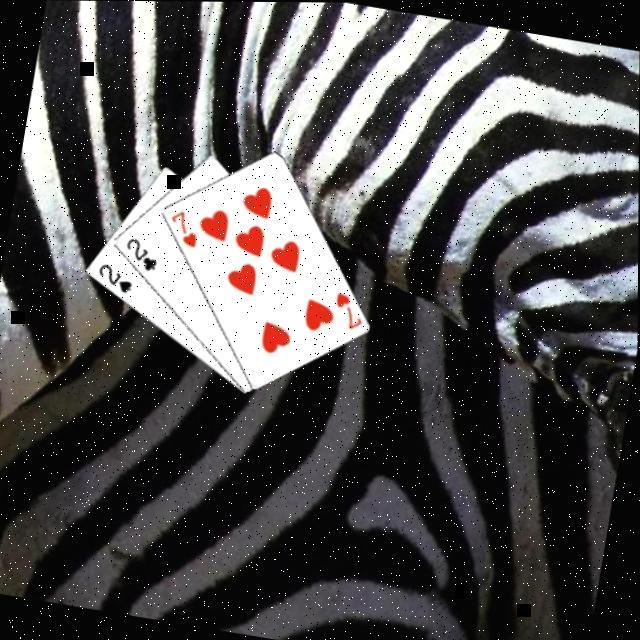2C: (119, 233, 162, 275)
2S: (92, 258, 137, 296)
7H: (162, 204, 203, 249), (327, 287, 368, 332)
